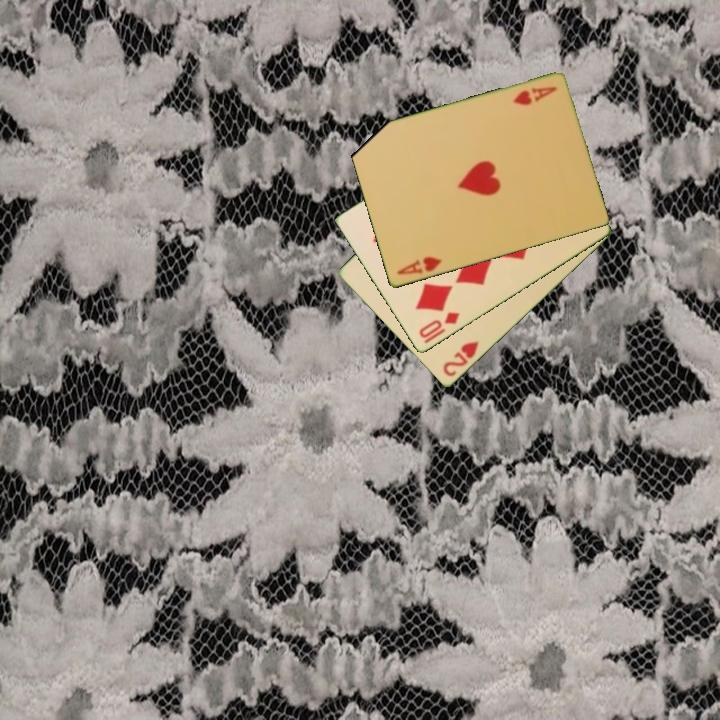10d: (415, 308, 463, 341)
2h: (439, 337, 482, 380)
Ah: (394, 253, 444, 278), (509, 83, 559, 108)
